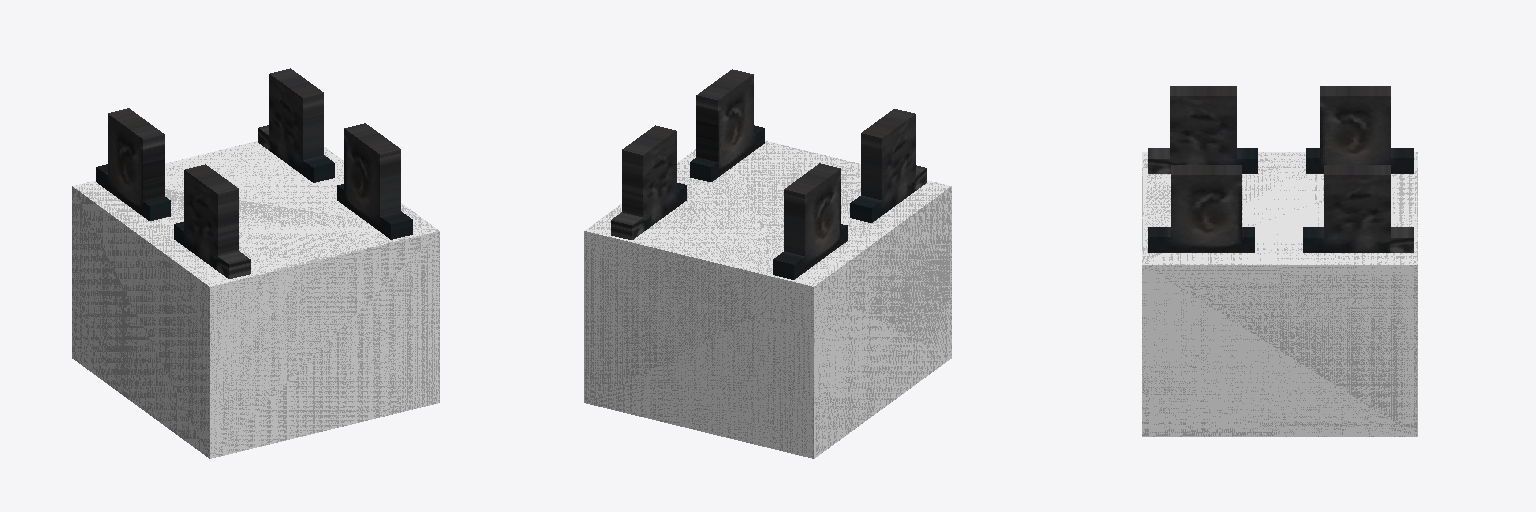
The picture shows the model from 3 angles: view 1: azimuth 30°, elevation 25°; view 2: azimuth 150°, elevation 25°; view 3: azimuth 270°, elevation 25°; orthographic projection.
Visible parts, largest first — view 1: Mesh5 Group2 Group1 Model, Mesh4 Group4 Group2 Group1 Model, Mesh2 Group3 Group2 Group1 Model, Mesh1 Group3 Group2 Group1 Model, Mesh3 Group4 Group2 Group1 Model; view 2: Mesh5 Group2 Group1 Model, Mesh2 Group3 Group2 Group1 Model, Mesh4 Group4 Group2 Group1 Model, Mesh1 Group3 Group2 Group1 Model, Mesh3 Group4 Group2 Group1 Model; view 3: Mesh5 Group2 Group1 Model, Mesh4 Group4 Group2 Group1 Model, Mesh3 Group4 Group2 Group1 Model, Mesh2 Group3 Group2 Group1 Model, Mesh1 Group3 Group2 Group1 Model.
Part boxes in pixels (left/top/right/bottom): Mesh5 Group2 Group1 Model: left=72, top=141, right=439, bottom=458; Mesh4 Group4 Group2 Group1 Model: left=337, top=123, right=412, bottom=239; Mesh2 Group3 Group2 Group1 Model: left=96, top=108, right=170, bottom=220; Mesh1 Group3 Group2 Group1 Model: left=174, top=164, right=250, bottom=278; Mesh3 Group4 Group2 Group1 Model: left=258, top=68, right=334, bottom=182; Mesh5 Group2 Group1 Model: left=584, top=141, right=951, bottom=458; Mesh2 Group3 Group2 Group1 Model: left=773, top=163, right=847, bottom=279; Mesh4 Group4 Group2 Group1 Model: left=690, top=69, right=764, bottom=181; Mesh1 Group3 Group2 Group1 Model: left=850, top=109, right=926, bottom=222; Mesh3 Group4 Group2 Group1 Model: left=611, top=125, right=686, bottom=239; Mesh5 Group2 Group1 Model: left=1142, top=152, right=1417, bottom=436; Mesh4 Group4 Group2 Group1 Model: left=1148, top=165, right=1254, bottom=252; Mesh3 Group4 Group2 Group1 Model: left=1303, top=165, right=1413, bottom=252; Mesh2 Group3 Group2 Group1 Model: left=1306, top=86, right=1413, bottom=173; Mesh1 Group3 Group2 Group1 Model: left=1148, top=86, right=1257, bottom=173.
Bounding box in the file's own units: 0.9642 × 1 × 1.
Materials: 3 (1 with a texture image).